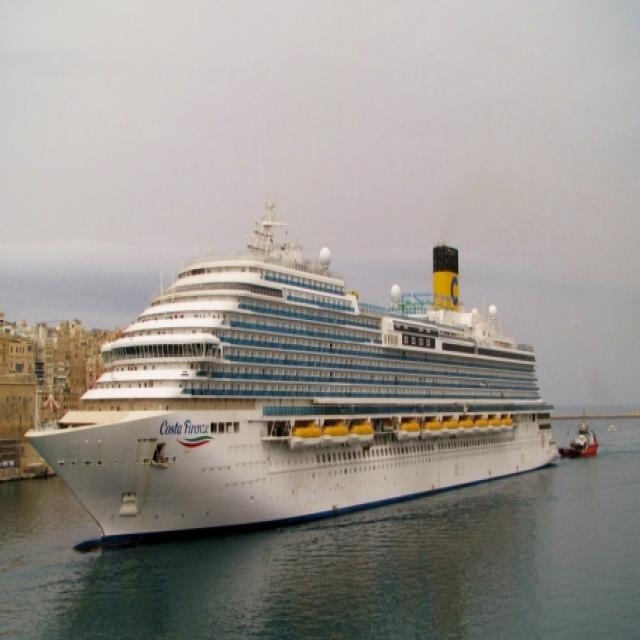cruises: (28, 195, 562, 545)
